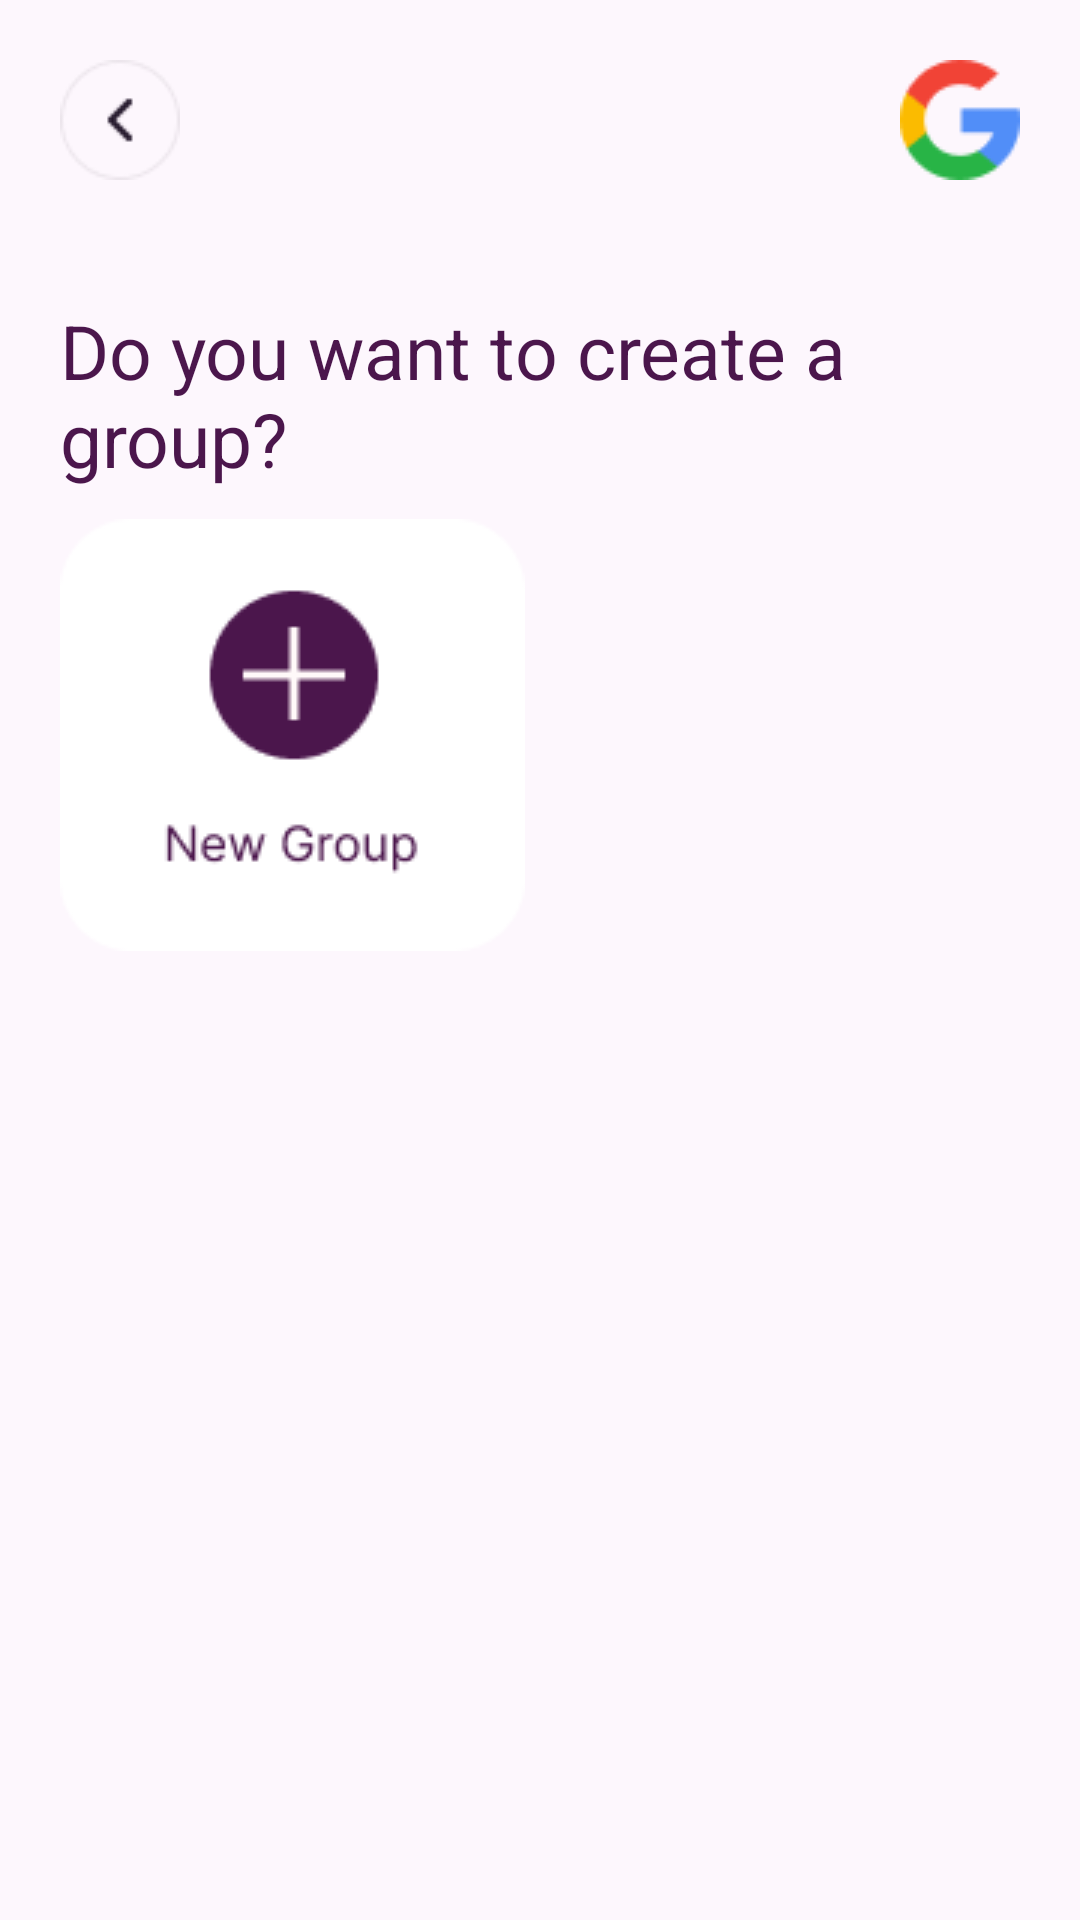

Where to tap for icons on this 1080px×1920px app screen, as point (x, y):
back: point (120, 120)
